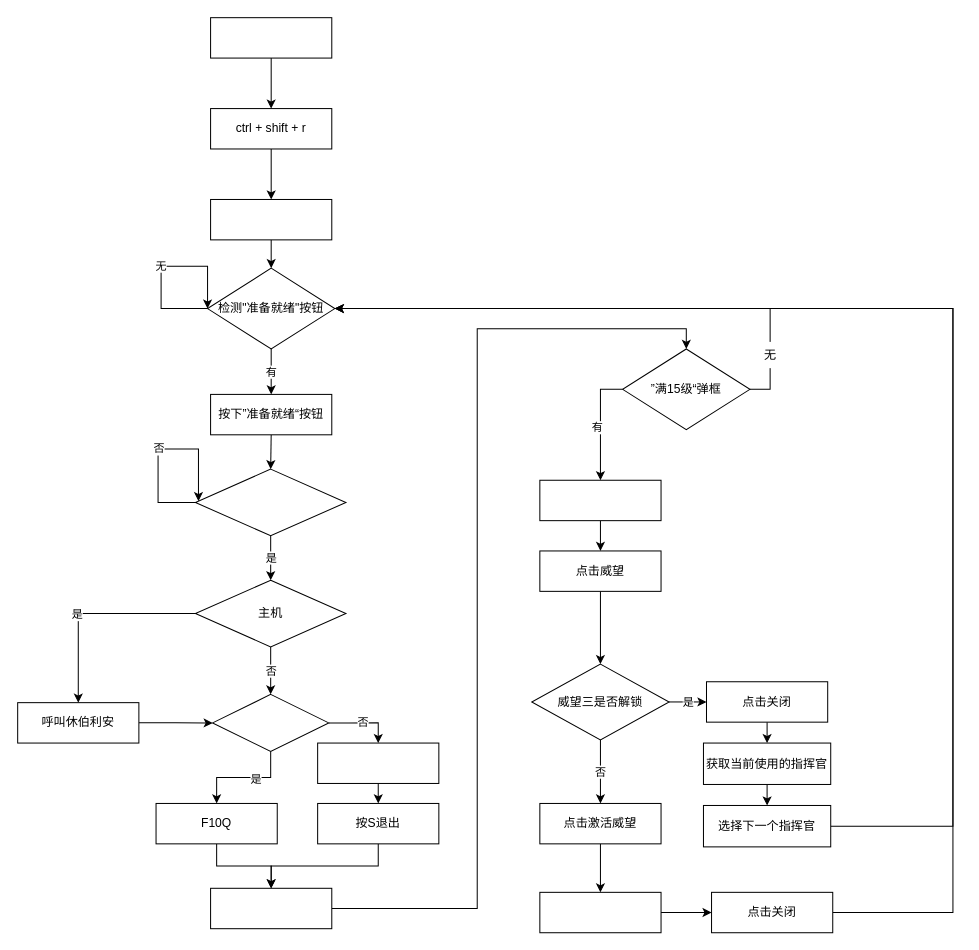
Image size: 979x950. Some labels were removed from this diagram. Here are the shapes that lost their labels. From the top down, the centre of each, then its label:
(271,37): 进入游戏启动脚本
(271,219): 检测队友位置有人
(270,502): 是否已进入游戏
(600,500): 点击确定
(270,722): 是否有极性
(378,762): 等待胜利页面
(271,908): 从结算页离开
(600,912): 两次确定
